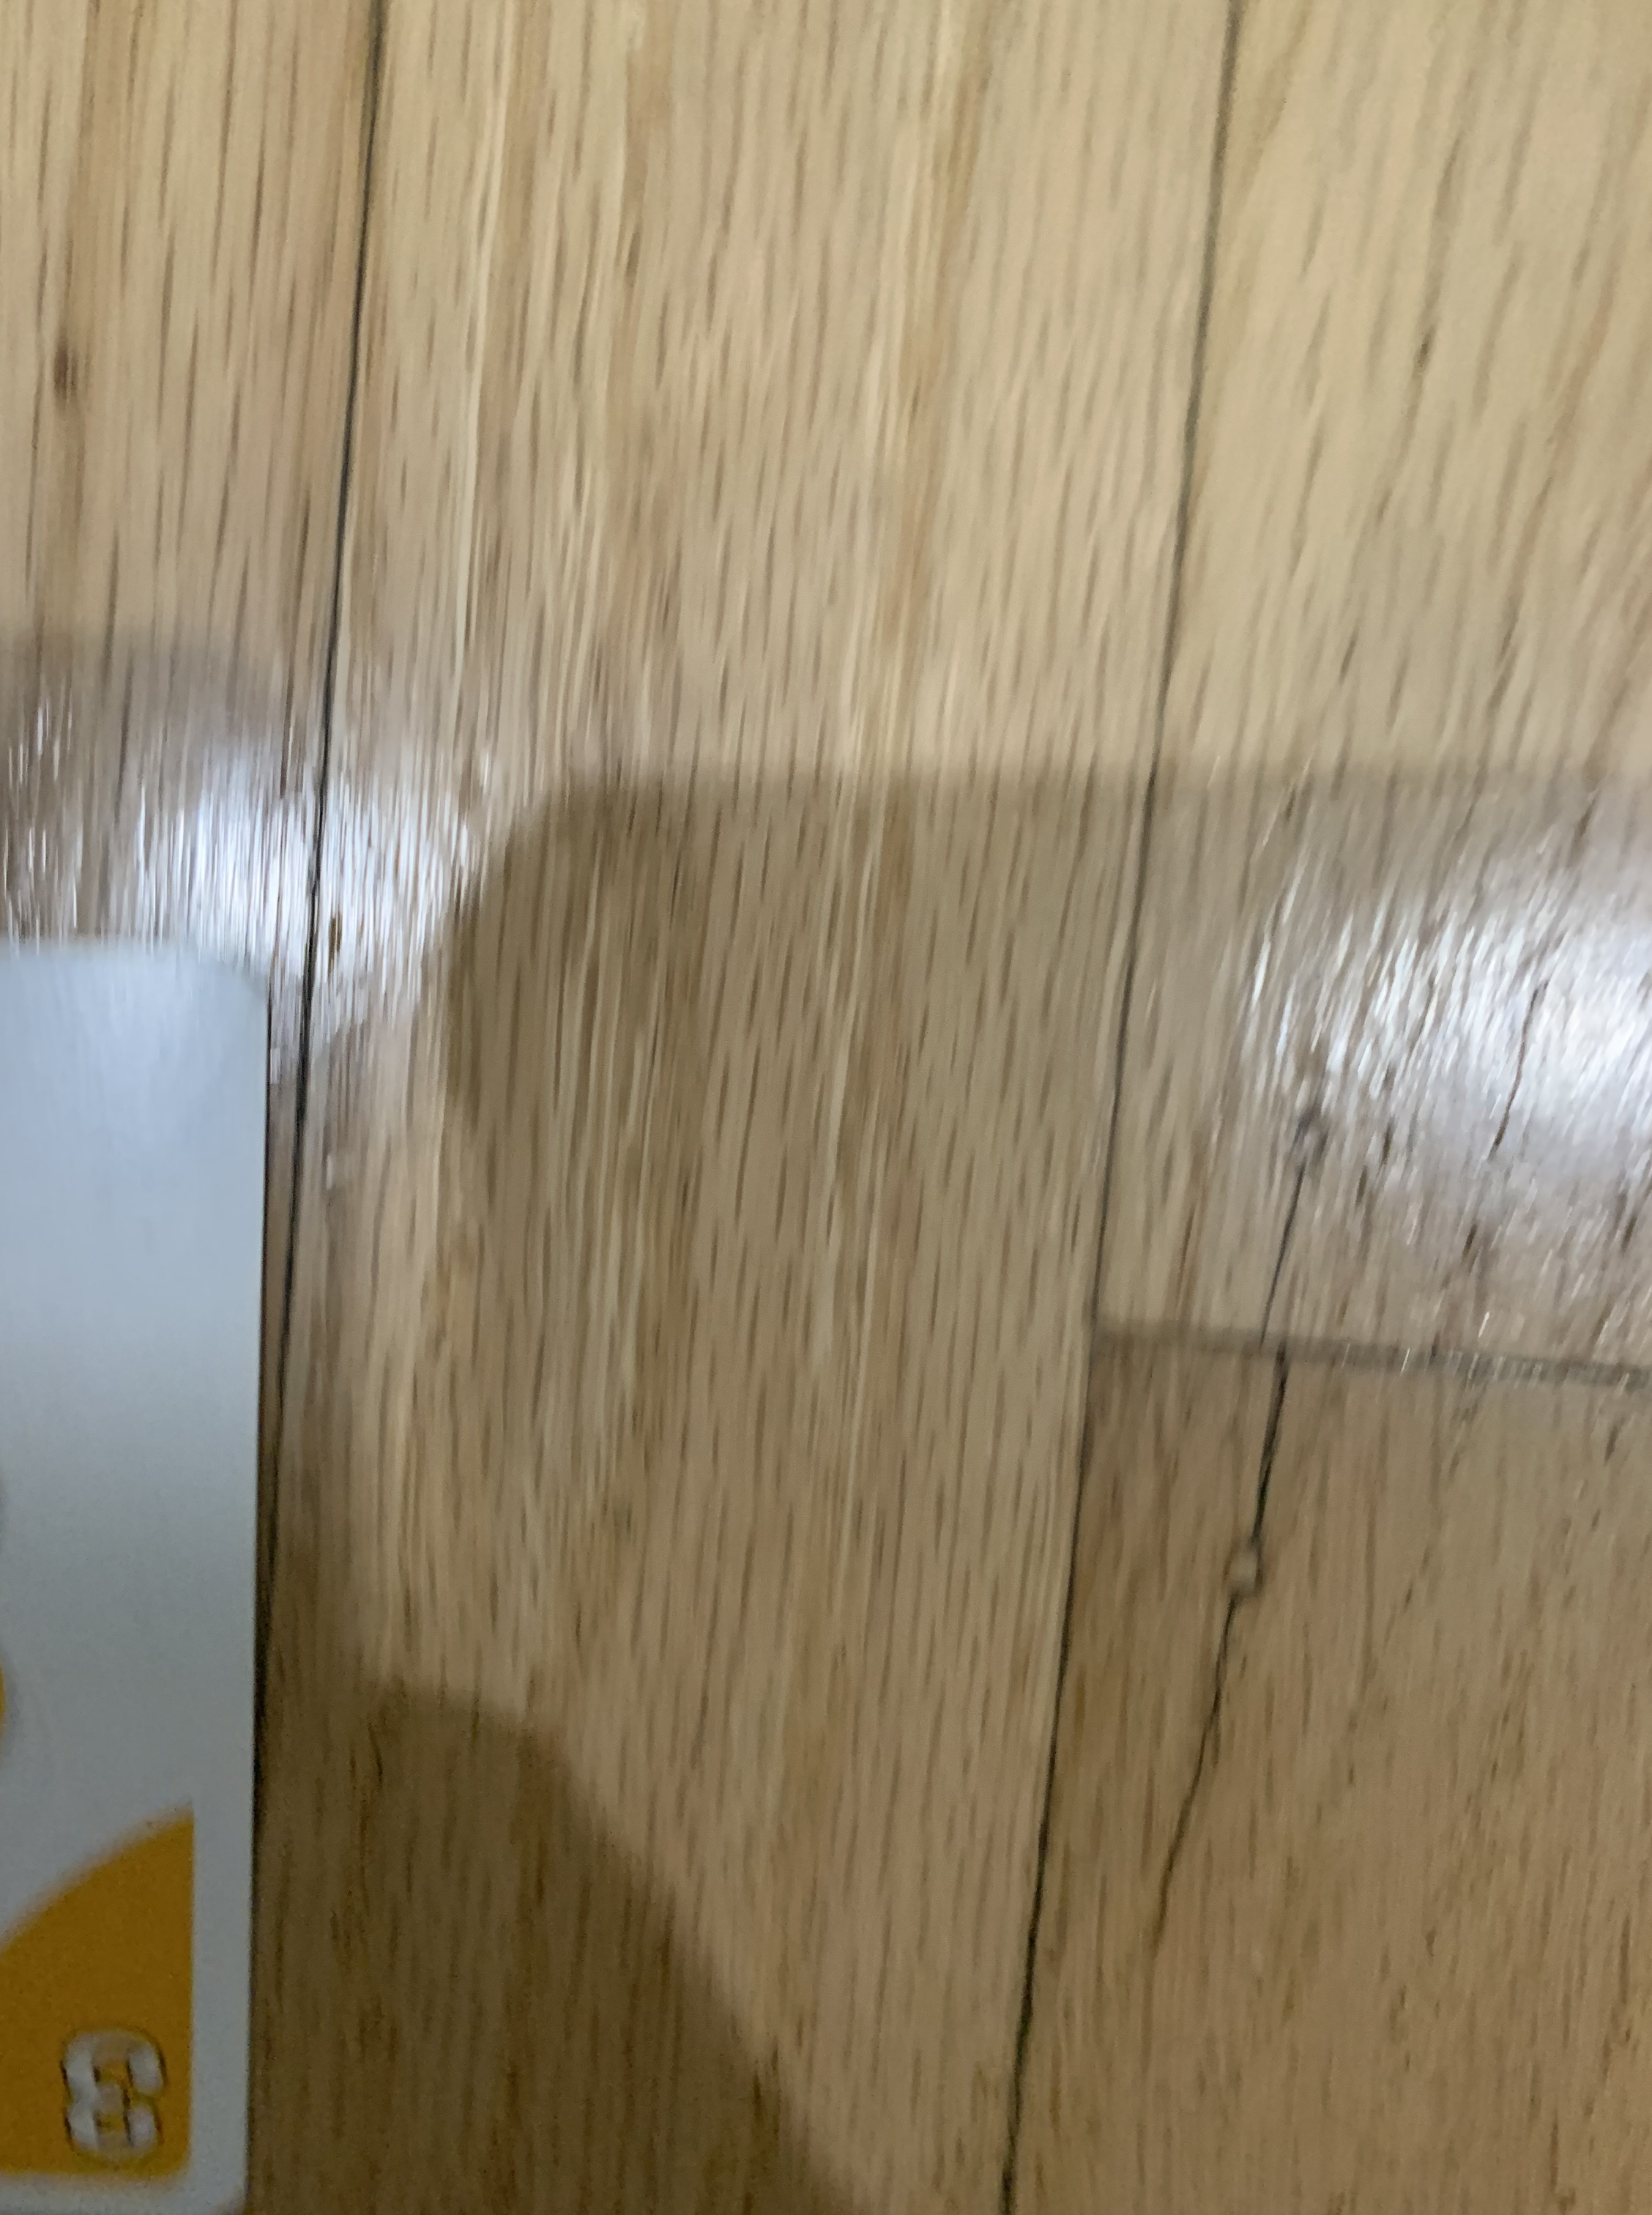three: (0, 932, 281, 2212)
